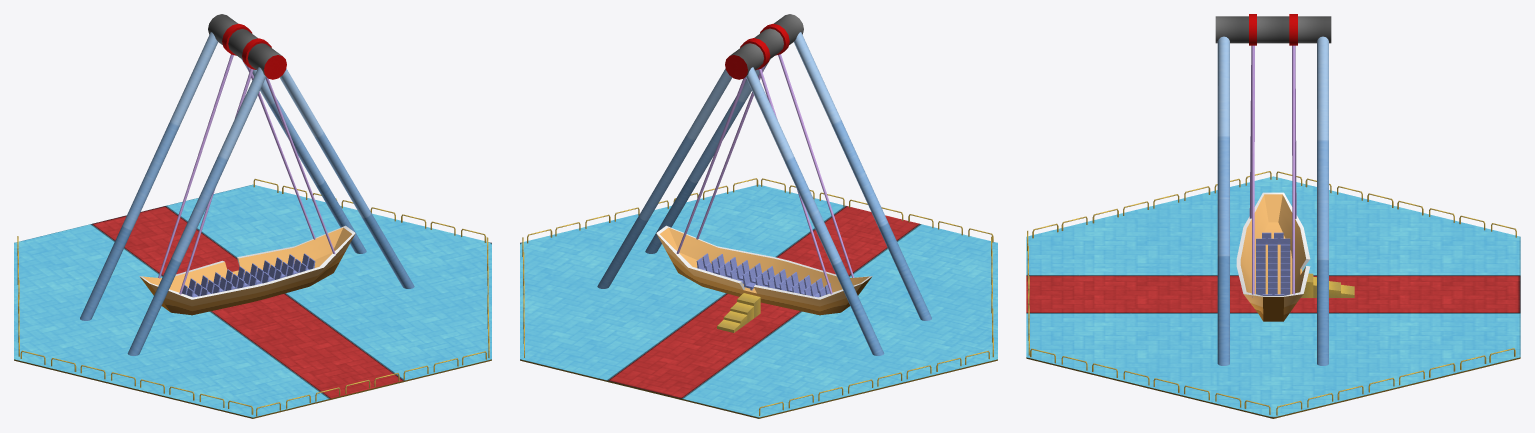
The model's file is ETC0210002.fbx.
3 renders of one model, left to right at view 1: azimuth 30°, elevation 25°; view 2: azimuth 150°, elevation 25°; view 3: azimuth 270°, elevation 25°, orthographic. The views are drawn at different scales.
Parts seen in each view (by area): view 1: smETC0210002; view 2: smETC0210002; view 3: smETC0210002.
Boxes of the visible parts, x1=… form: smETC0210002: x1=14, y1=14, x2=491, y2=418; smETC0210002: x1=520, y1=14, x2=997, y2=418; smETC0210002: x1=1026, y1=14, x2=1520, y2=418.
Size of the model in its own units: 3680 by 1993 by 3187.
Materials: 1 (1 with a texture image).
